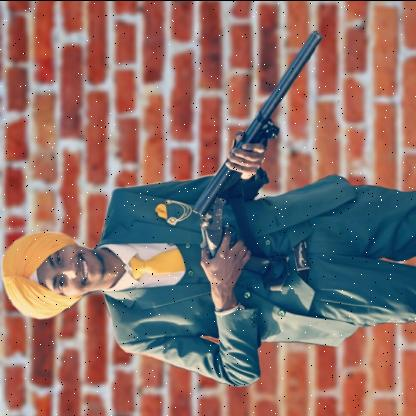rifle: (190, 27, 326, 276)
